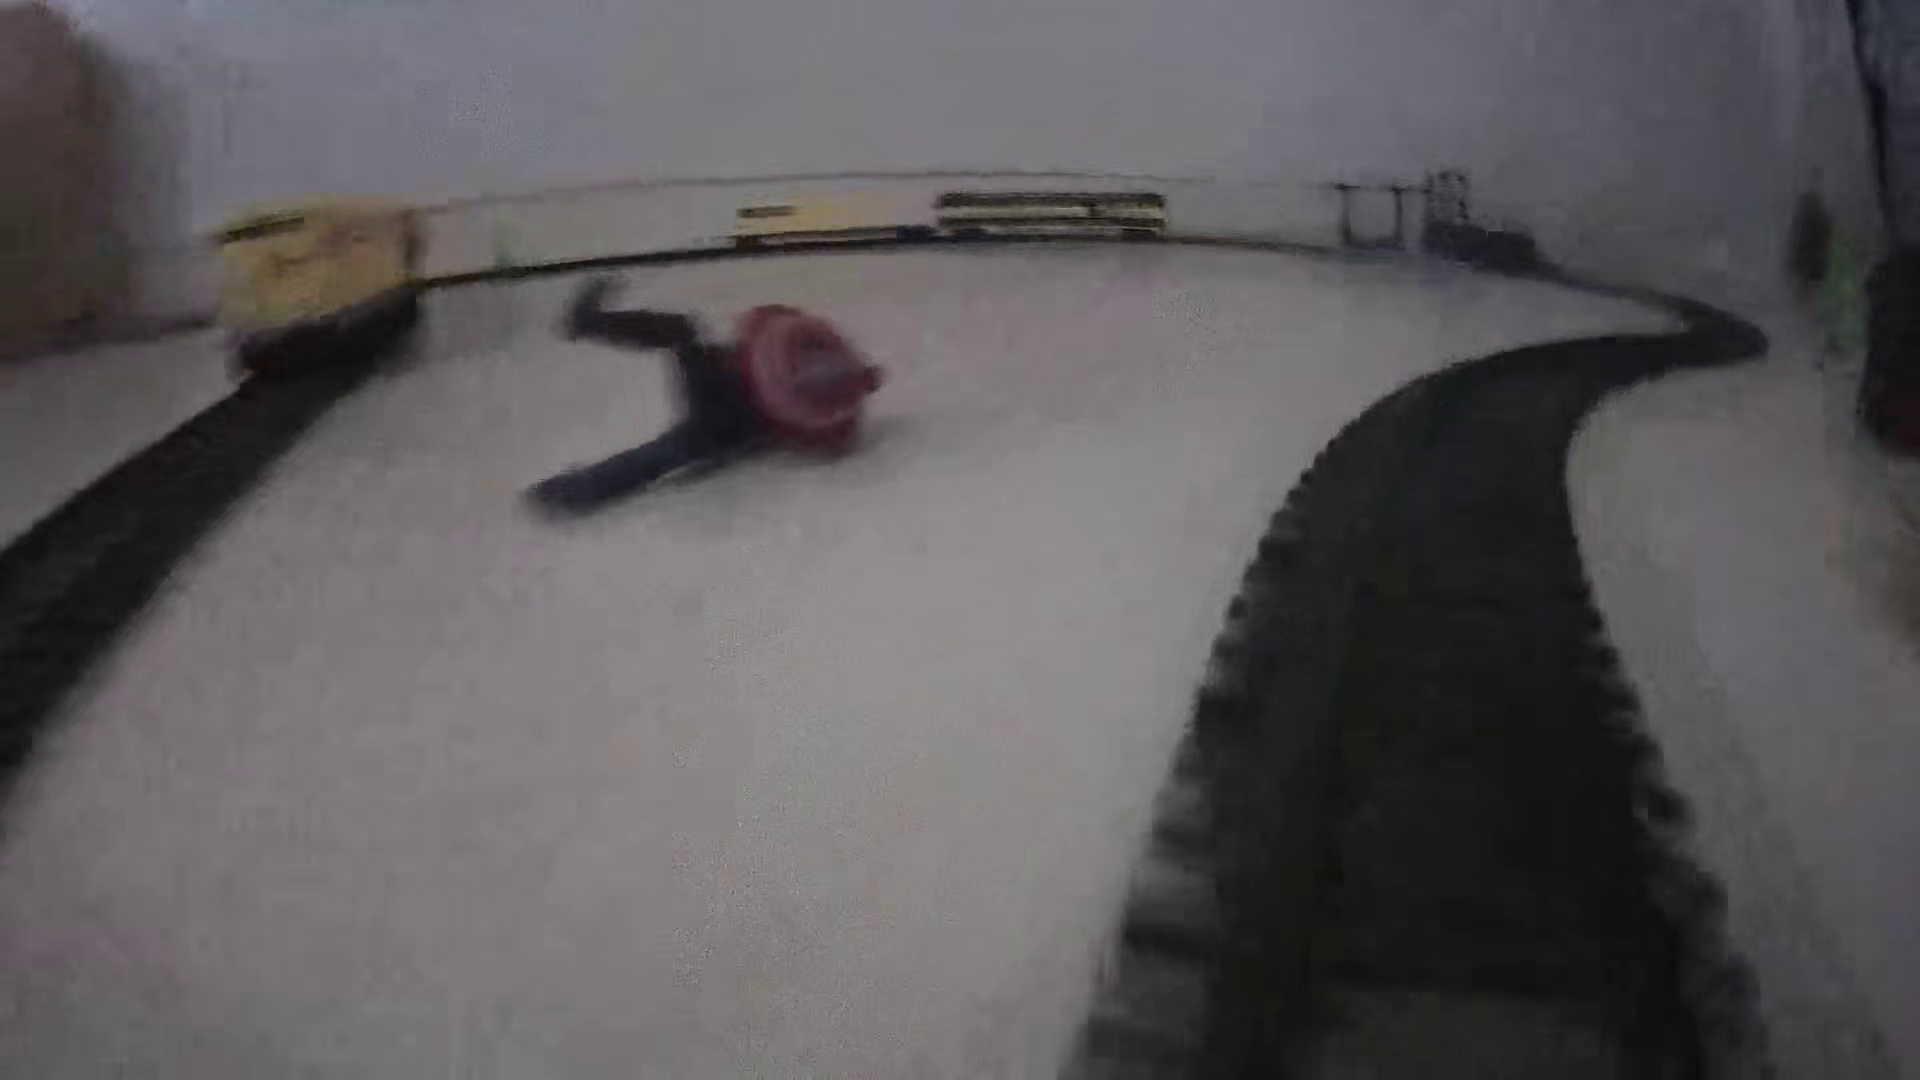people: (514, 267, 887, 516)
